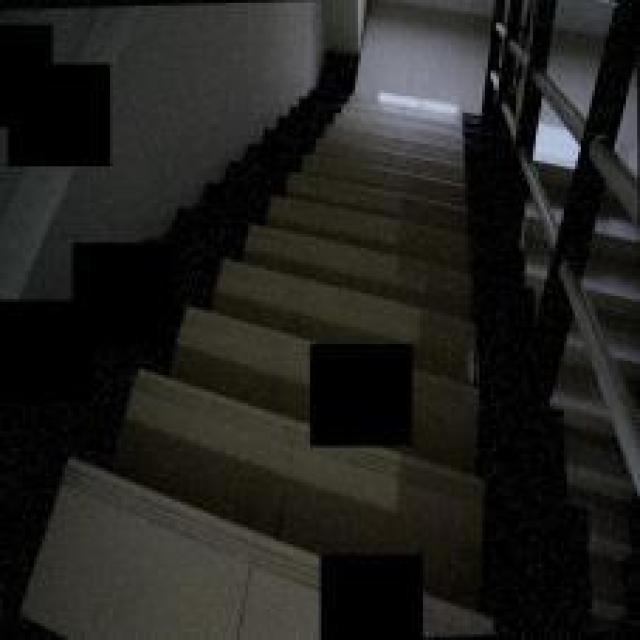downstair: (235, 131, 511, 331)
